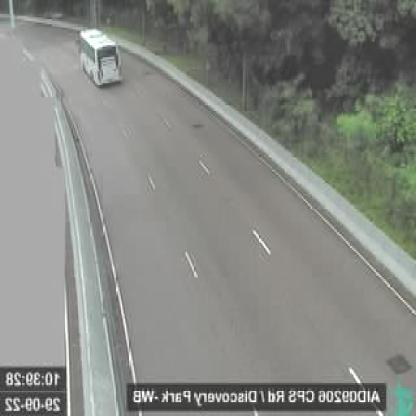Bus: (76, 24, 124, 85)
